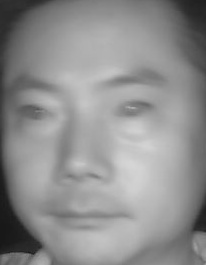eye: (17, 101, 57, 128), (112, 99, 153, 123)
mouth: (46, 198, 130, 238)
